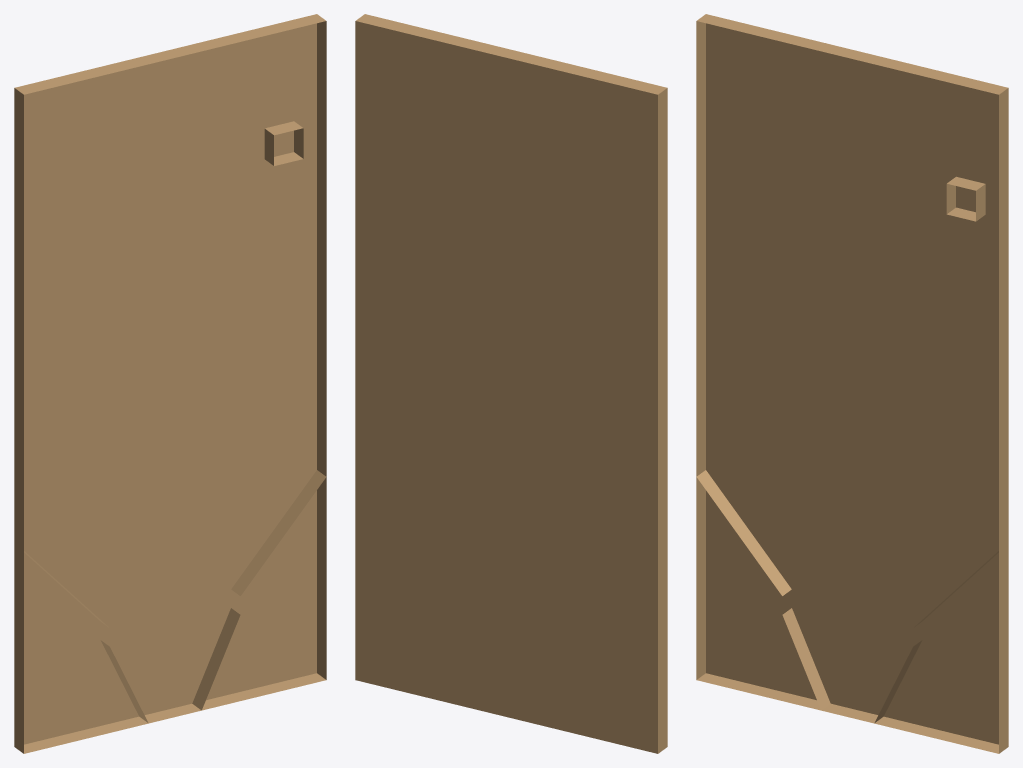
Rendered from playfield.glb.
3 views of the same model, side by side, from view 1: azimuth 30°, elevation 25°; view 2: azimuth 150°, elevation 25°; view 3: azimuth 330°, elevation 25° (orthographic).
Visible parts, largest first — view 1: floor, walls[0], walls[2], walls[4], walls[5]; view 2: floor, walls[0]; view 3: floor, walls[0], walls[1], walls[3], walls[5].
Boxes of the visible parts, x1=… form: floor: x1=24, y1=23, x2=316, y2=744; walls[0]: x1=14, y1=14, x2=326, y2=753; walls[2]: x1=231, y1=470, x2=326, y2=595; walls[4]: x1=192, y1=608, x2=240, y2=710; walls[5]: x1=264, y1=121, x2=303, y2=165; floor: x1=355, y1=21, x2=657, y2=753; walls[0]: x1=356, y1=14, x2=667, y2=753; floor: x1=706, y1=23, x2=998, y2=744; walls[0]: x1=696, y1=14, x2=1008, y2=753; walls[1]: x1=696, y1=470, x2=791, y2=595; walls[3]: x1=782, y1=608, x2=830, y2=710; walls[5]: x1=946, y1=176, x2=985, y2=221.
Bounding box in the file's own units: 0.514 × 1.07 × 0.028.
